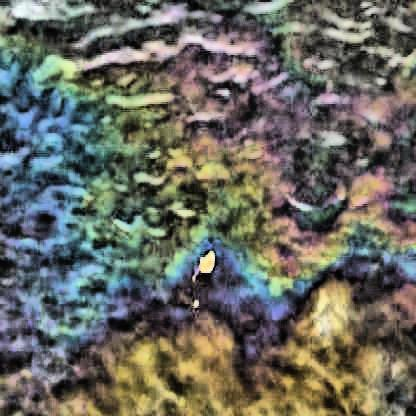rainbow: (7, 0, 416, 411)
